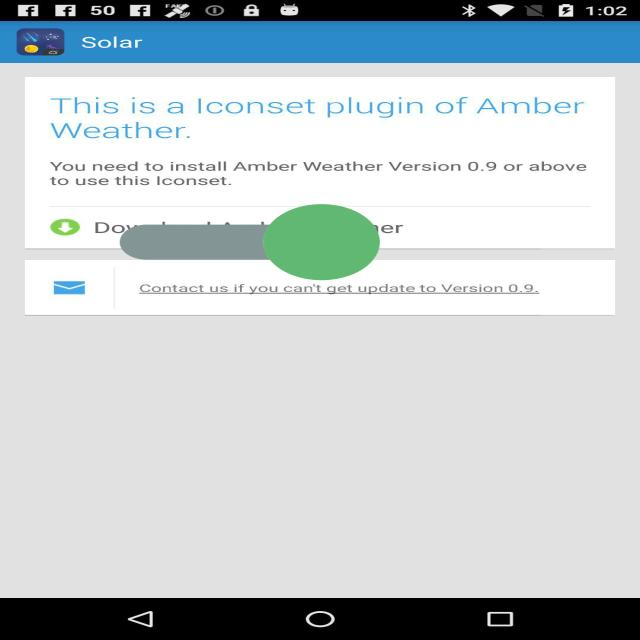social proof: (120, 157, 380, 327)
